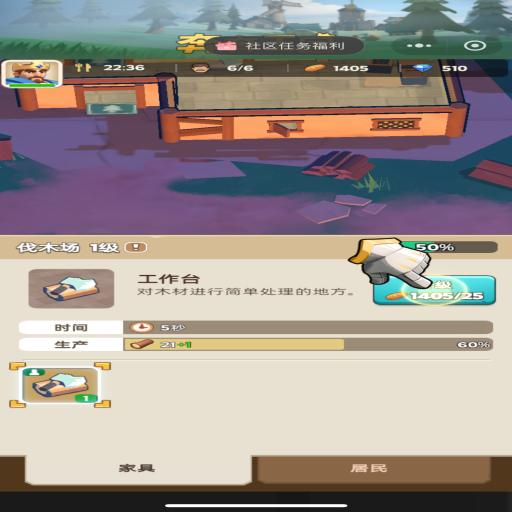newcomer_hand: (346, 238, 430, 289)
